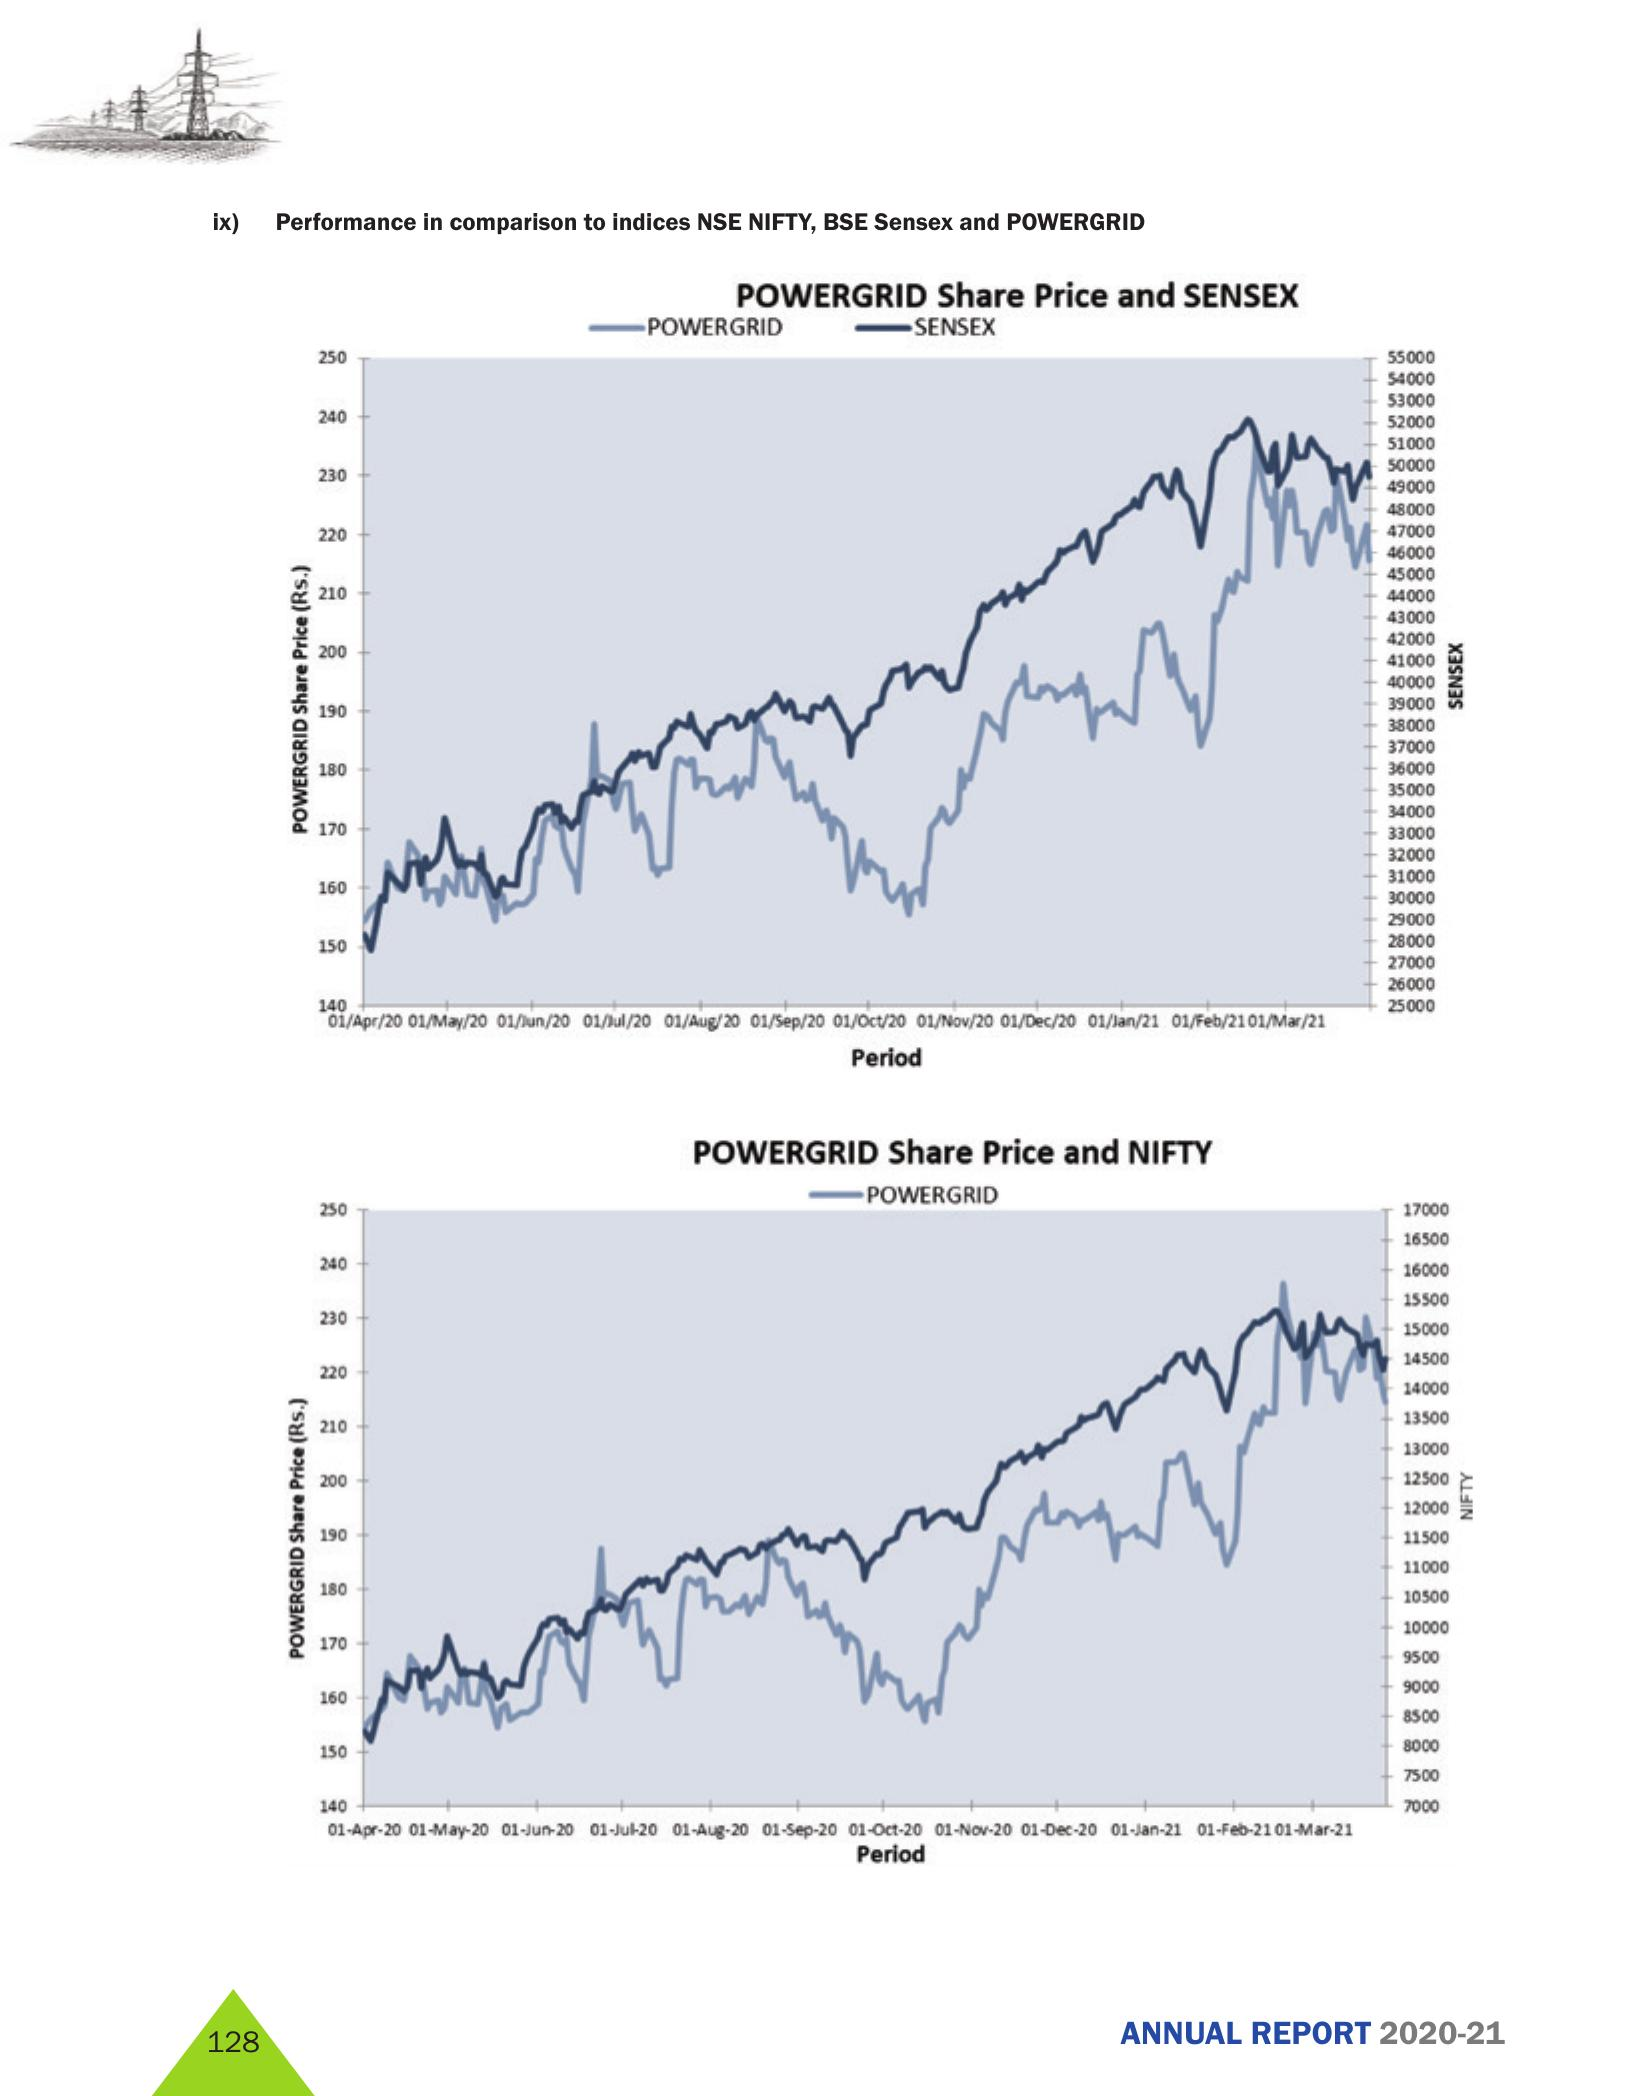Footer: (0, 1968, 1650, 2096)
Header: (0, 0, 1650, 184)
Image: (236, 253, 1499, 1055), (245, 1131, 1492, 1883)
